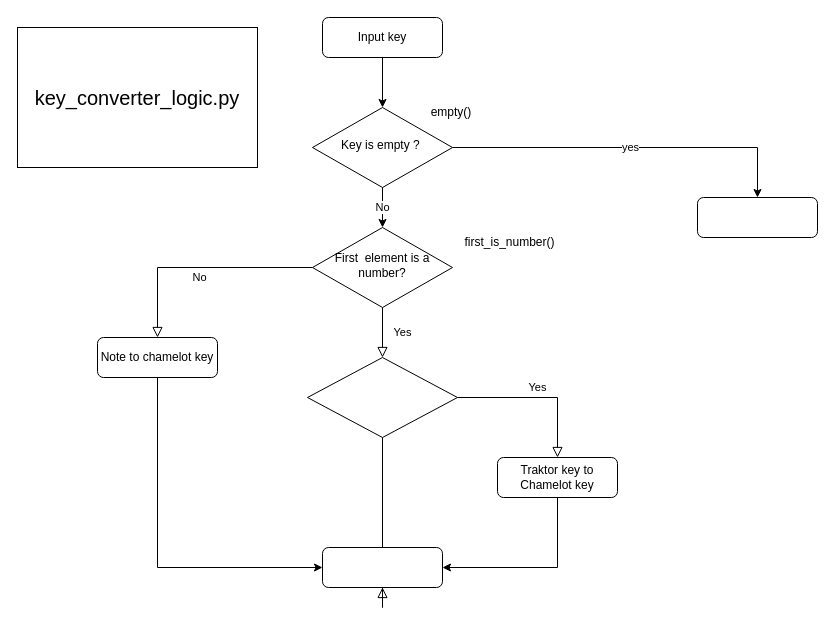
This 835x635 diagram has some shape labels left out. Here are the shapes that lost their labels. From the top down, the centre of each, then its label:
At (x=757, y=217): "do not list song".
At (x=382, y=397): "Last element is a d or m?".
At (x=382, y=567): "Get Chamelot KEY".
